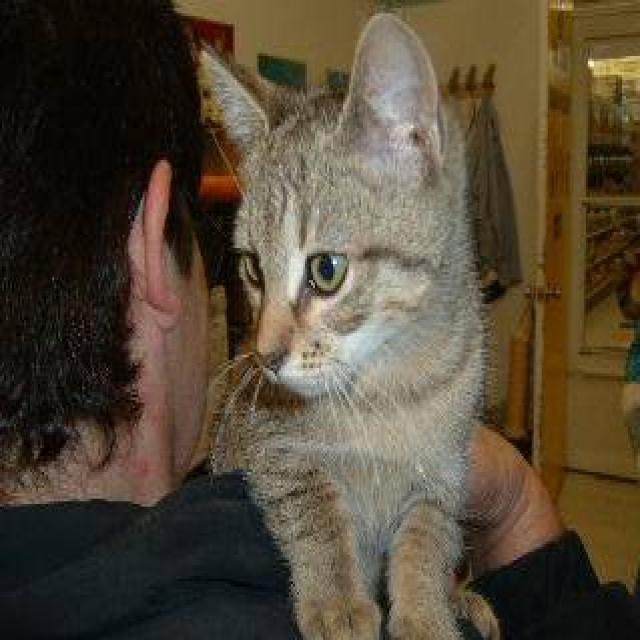cat: (190, 11, 500, 637)
